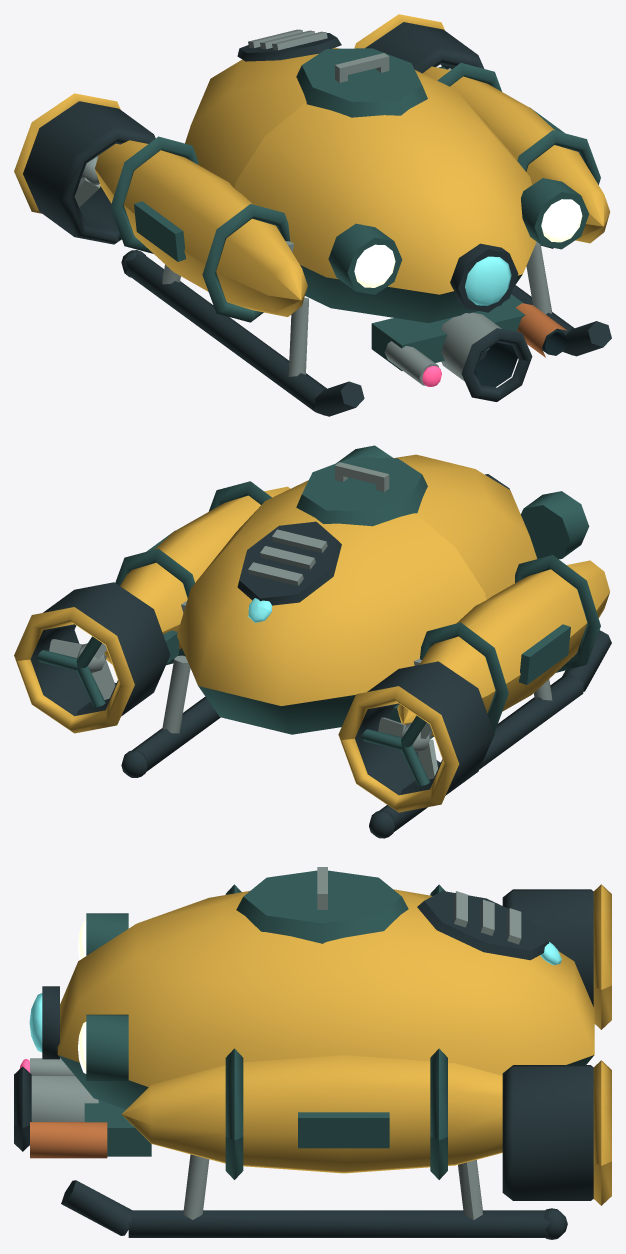
File: rov.glb
The picture shows the model from 3 angles, top to bottom: view 1: azimuth 30°, elevation 25°; view 2: azimuth 150°, elevation 25°; view 3: azimuth 270°, elevation 25°; orthographic projection. The views are drawn at different scales.
Parts seen in each view (by area): view 1: rov, deck-hatch, propeller-left; view 2: rov, deck-hatch, propeller-right, propeller-left; view 3: rov, deck-hatch.
Part boxes in pixels (<box>): rov: <box>14,14,611,416</box>; deck-hatch: <box>296,48,427,117</box>; propeller-left: <box>74,155,99,207</box>; rov: <box>14,445,611,838</box>; deck-hatch: <box>296,457,427,526</box>; propeller-right: <box>49,639,115,699</box>; propeller-left: <box>378,717,437,779</box>; rov: <box>14,867,611,1239</box>; deck-hatch: <box>236,870,408,943</box>.
Size of the model in its own units: 1.62 by 0.91 by 1.69.
